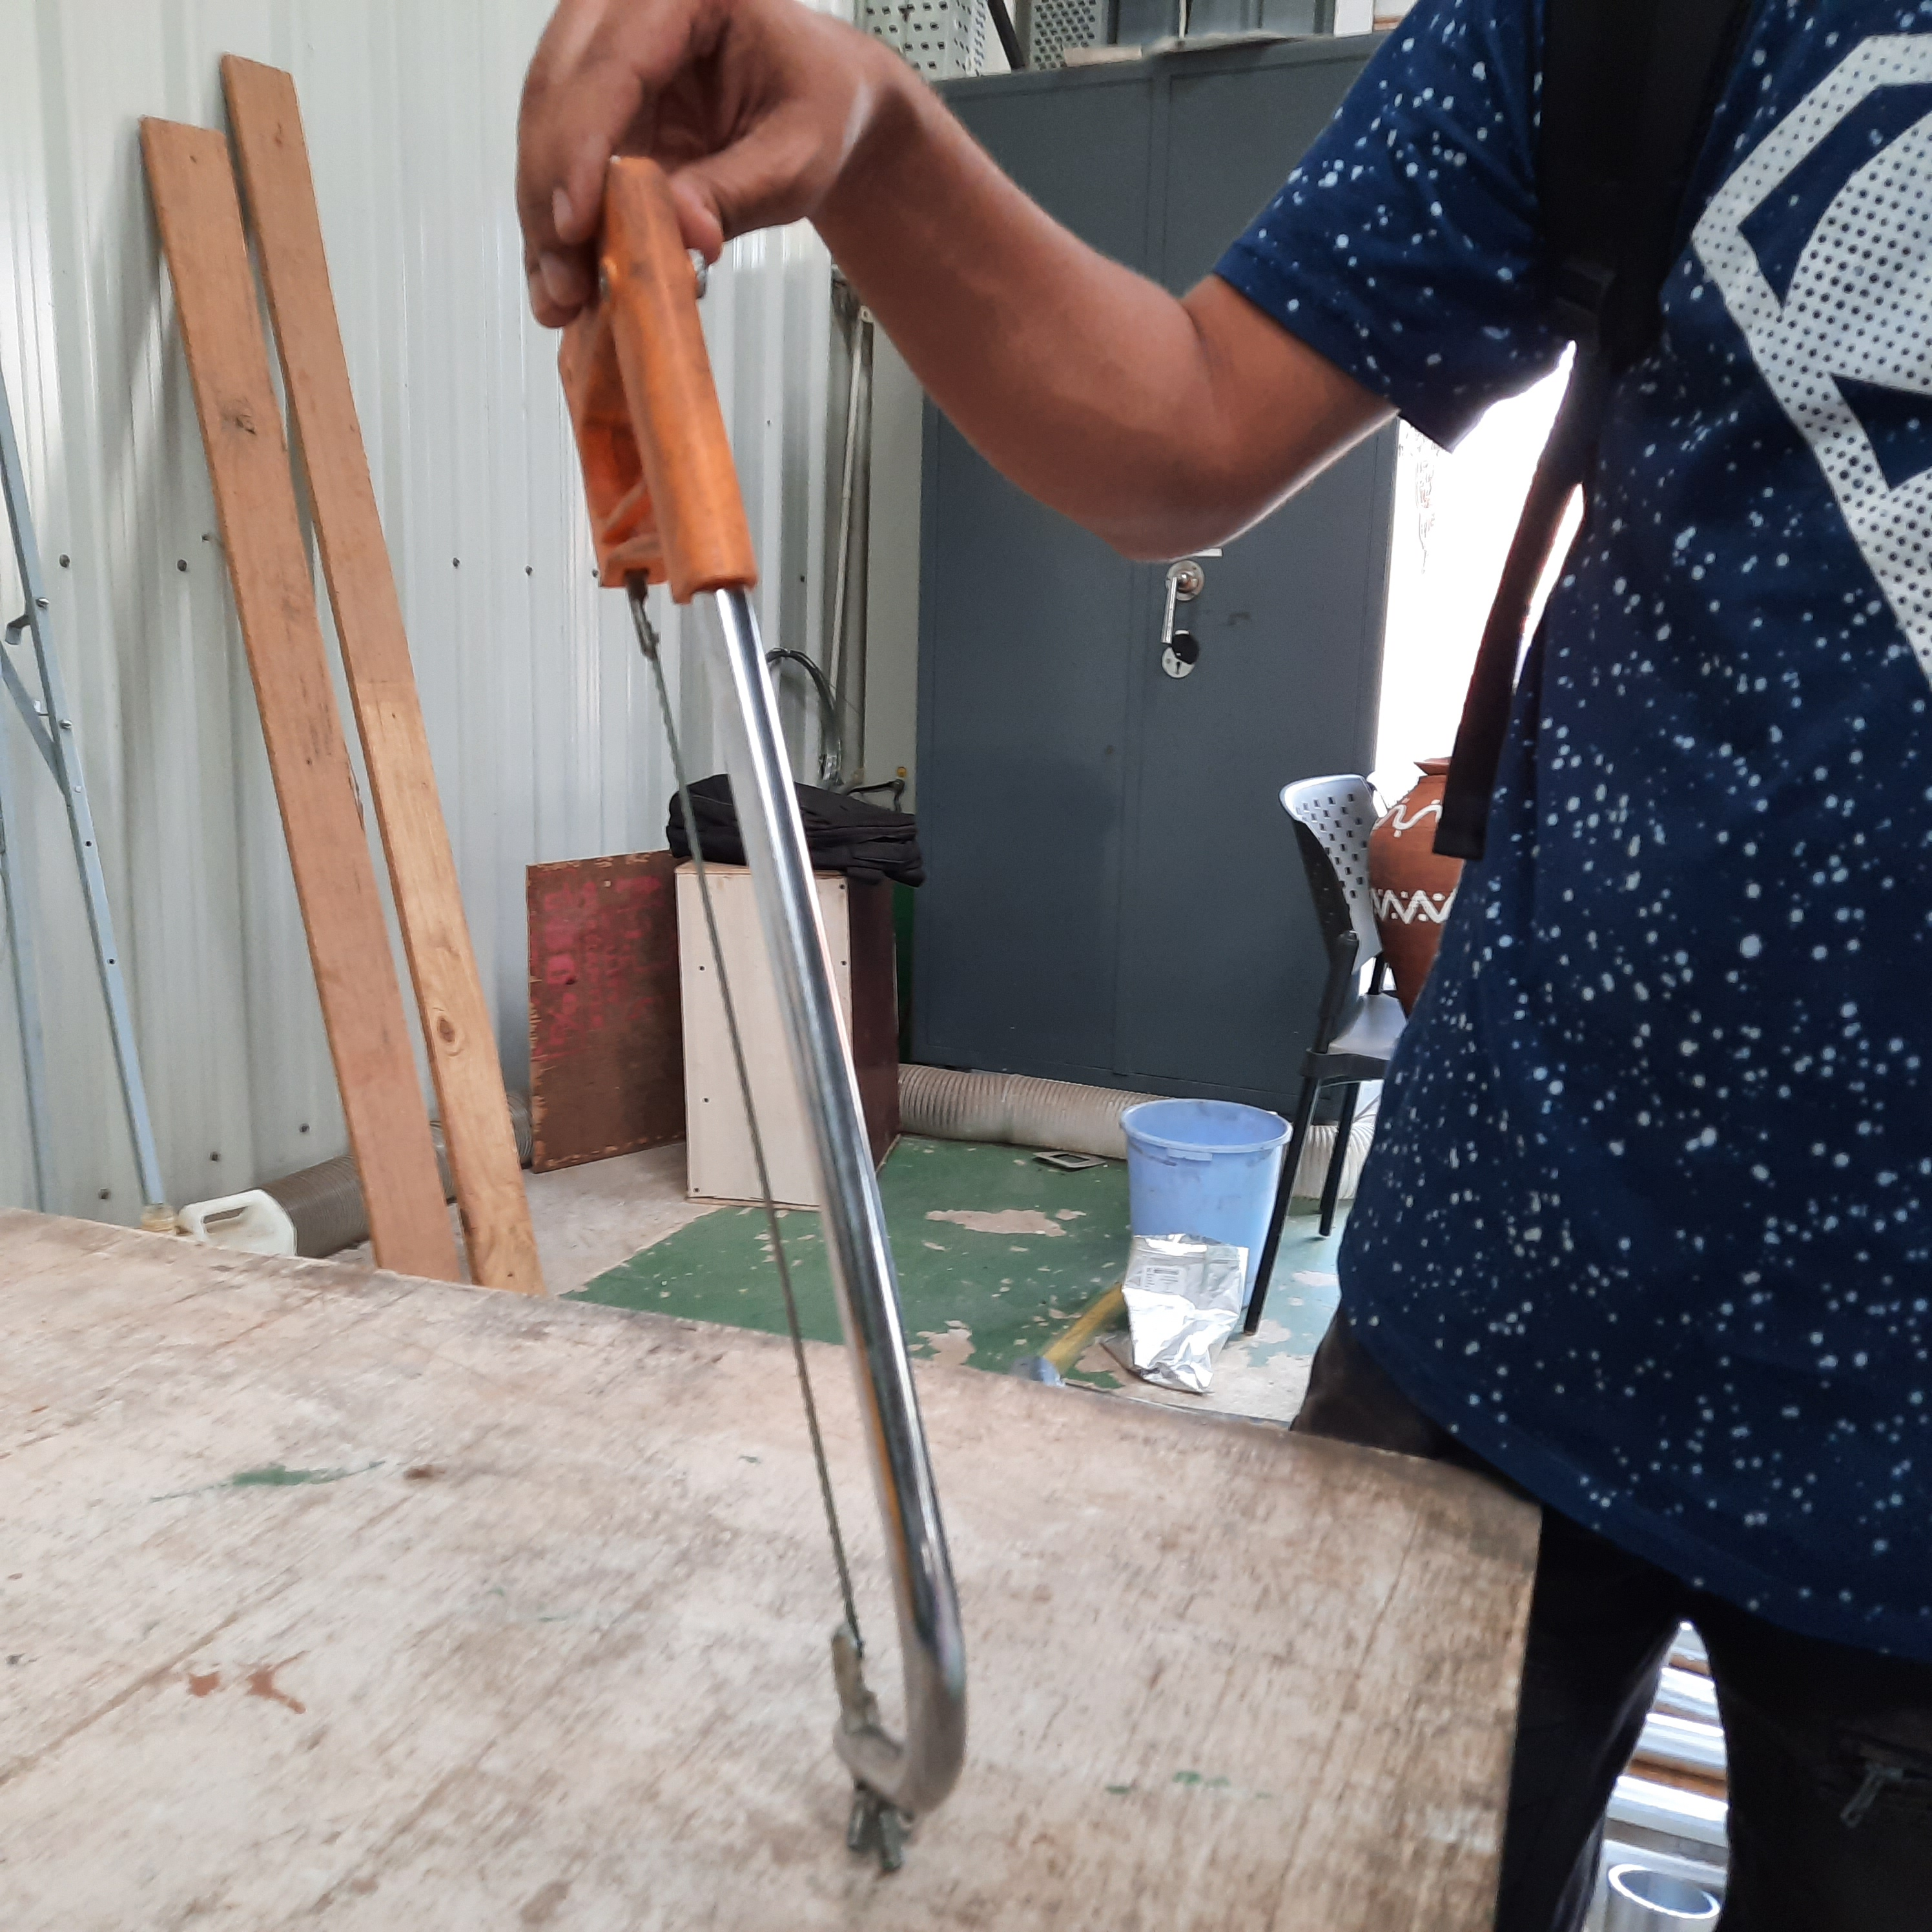Hexaframe: (471, 156, 1047, 1904)
